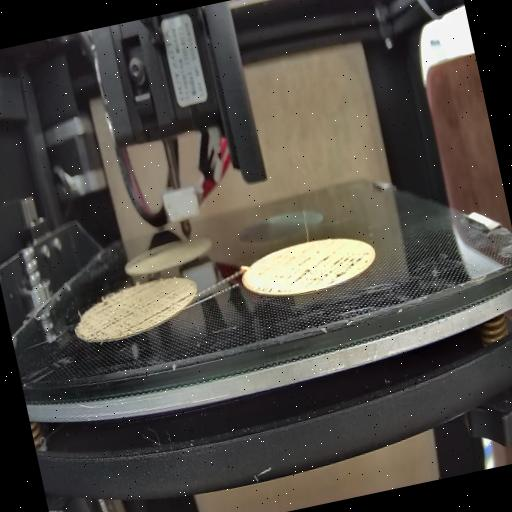under_extrusion: (251, 239, 372, 294), (83, 280, 196, 334)
